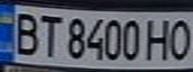0: (121, 16, 145, 62), (103, 16, 124, 62)
4: (84, 16, 106, 62)
8: (63, 13, 87, 60)
B: (9, 8, 42, 56)
H: (142, 16, 175, 62)
O: (163, 16, 193, 61)
T: (36, 11, 63, 57)
